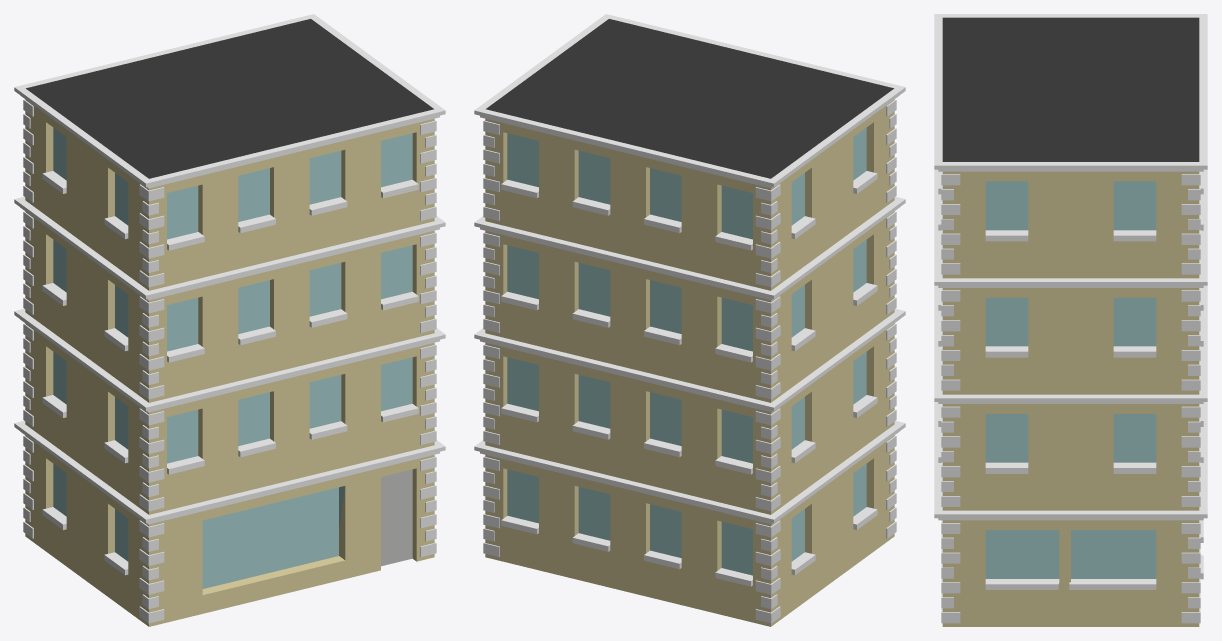
File: House_Beige.fbx
3 views of the same model, side by side, from view 1: azimuth 30°, elevation 25°; view 2: azimuth 150°, elevation 25°; view 3: azimuth 270°, elevation 25° (orthographic). The views are drawn at different scales.
Visible parts, largest first — view 1: Cube.001, Cube; view 2: Cube.001, Cube; view 3: Cube.001, Cube.
Part boxes in pixels (box(x1,y1,x2,y2)): Cube.001: box(14, 14, 445, 514); Cube: box(14, 420, 445, 626); Cube.001: box(474, 14, 905, 514); Cube: box(474, 420, 905, 626); Cube.001: box(934, 14, 1207, 510); Cube: box(934, 402, 1207, 626).
Size of the model in its own units: 840 by 1200 by 640.
